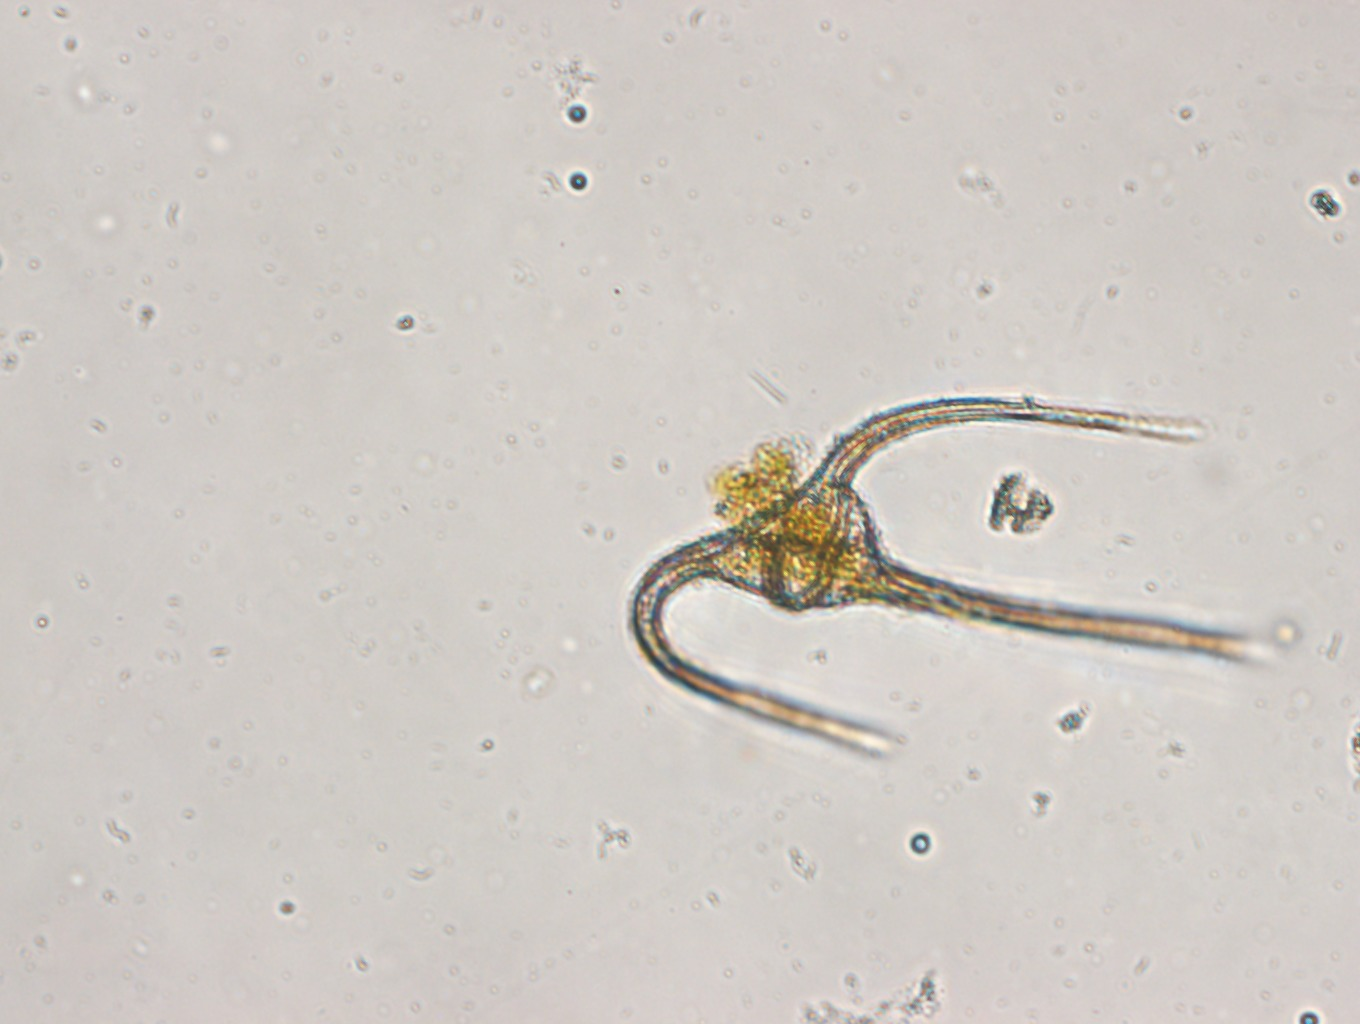ceratium trichoceros: (617, 378, 1282, 770)
